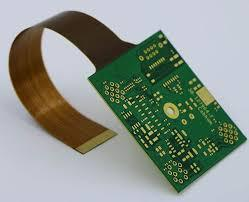Printed Circuit Board PCB: (89, 31, 247, 192)
